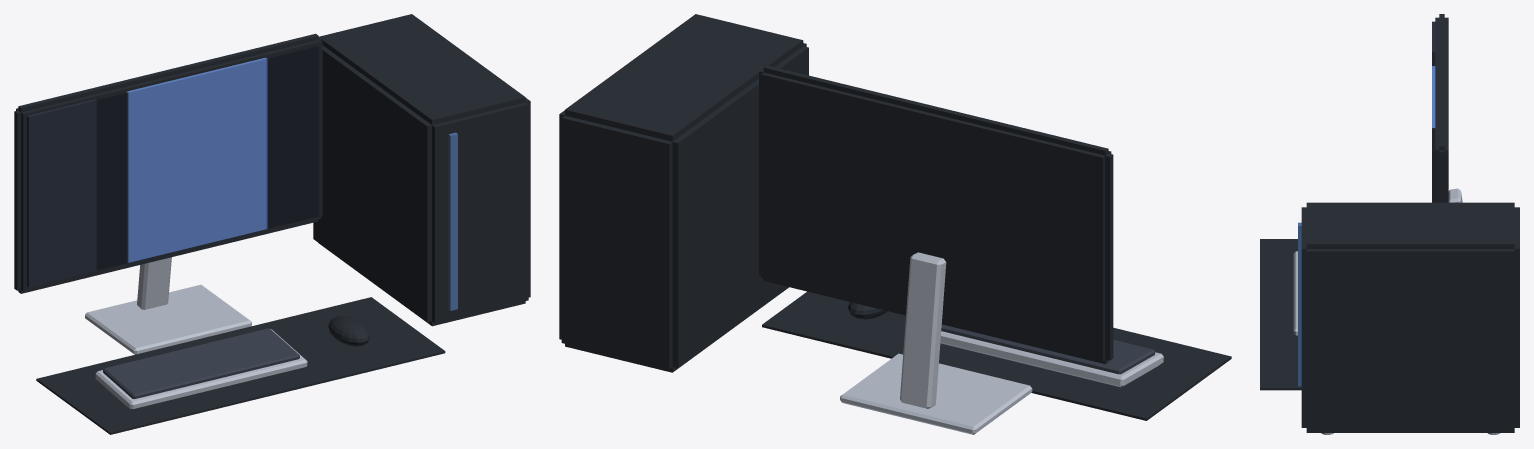
The model's file is computer_setup.obj.
3 renders of one model, left to right at view 1: azimuth 30°, elevation 25°; view 2: azimuth 150°, elevation 25°; view 3: azimuth 270°, elevation 25°, orthographic. The views are drawn at different scales.
Parts seen in each view (by area): view 1: PCCaseBody, MonitorDisplay, DeskMat, MonitorFrame, KeyboardKeyDeck, MonitorBase, KeyboardBody, PCCaseAccentStrip, MonitorNeck, MouseBody; view 2: MonitorFrame, PCCaseBody, DeskMat, MonitorBase, MonitorNeck, KeyboardBody, KeyboardKeyDeck; view 3: PCCaseBody, DeskMat, MonitorFrame, MonitorDisplay, PCCaseAccentStrip, KeyboardBody.
Boxes of the visible parts, <box> form: PCCaseBody: <box>313,14,530,326</box>; MonitorDisplay: <box>27,45,319,287</box>; DeskMat: <box>36,297,445,434</box>; MonitorFrame: <box>14,33,322,293</box>; KeyboardKeyDeck: <box>103,328,299,399</box>; MonitorBase: <box>85,284,251,354</box>; KeyboardBody: <box>95,329,307,408</box>; PCCaseAccentStrip: <box>448,132,457,310</box>; MonitorNeck: <box>137,257,171,309</box>; MouseBody: <box>328,316,370,346</box>; MonitorFrame: <box>759,65,1113,364</box>; PCCaseBody: <box>559,14,808,372</box>; DeskMat: <box>762,291,1231,420</box>; MonitorBase: <box>840,353,1032,434</box>; MonitorNeck: <box>900,252,946,408</box>; KeyboardBody: <box>940,331,1163,387</box>; KeyboardKeyDeck: <box>941,324,1155,374</box>; PCCaseBody: <box>1301,202,1519,432</box>; DeskMat: <box>1260,239,1301,390</box>; MonitorFrame: <box>1435,14,1448,202</box>; MonitorDisplay: <box>1432,21,1435,202</box>; PCCaseAccentStrip: <box>1298,222,1301,386</box>; KeyboardBody: <box>1293,251,1297,335</box>.
Bounding box in the file's own units: 0.905 × 0.4918 × 0.5.
5 materials, 1 textured.
